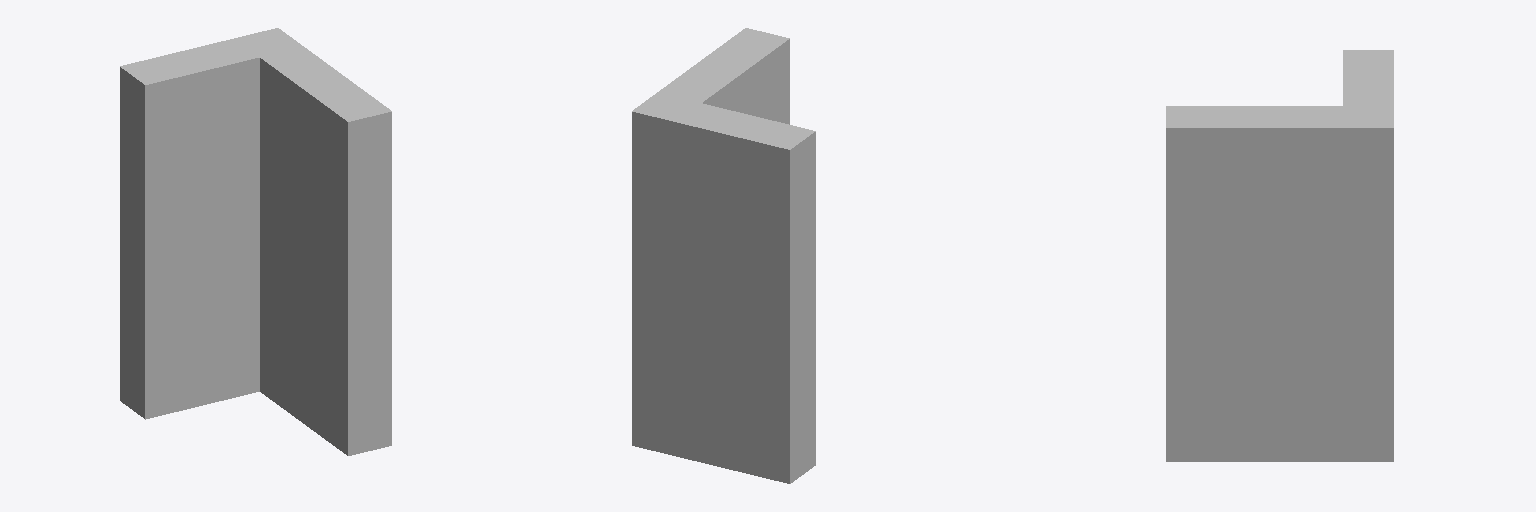
The model's file is wallConOB.obj.
3 views of the same model, side by side, from view 1: azimuth 30°, elevation 25°; view 2: azimuth 150°, elevation 25°; view 3: azimuth 270°, elevation 25° (orthographic).
Visible parts, largest first — view 1: WallConnect_Cube.004; view 2: WallConnect_Cube.004; view 3: WallConnect_Cube.004.
Boxes of the visible parts, x1,y1,x2,y2 form: WallConnect_Cube.004: [120, 28, 391, 455]; WallConnect_Cube.004: [632, 28, 815, 483]; WallConnect_Cube.004: [1166, 50, 1393, 461].
Bounding box in the file's own units: 1.99 × 4.01 × 2.49.